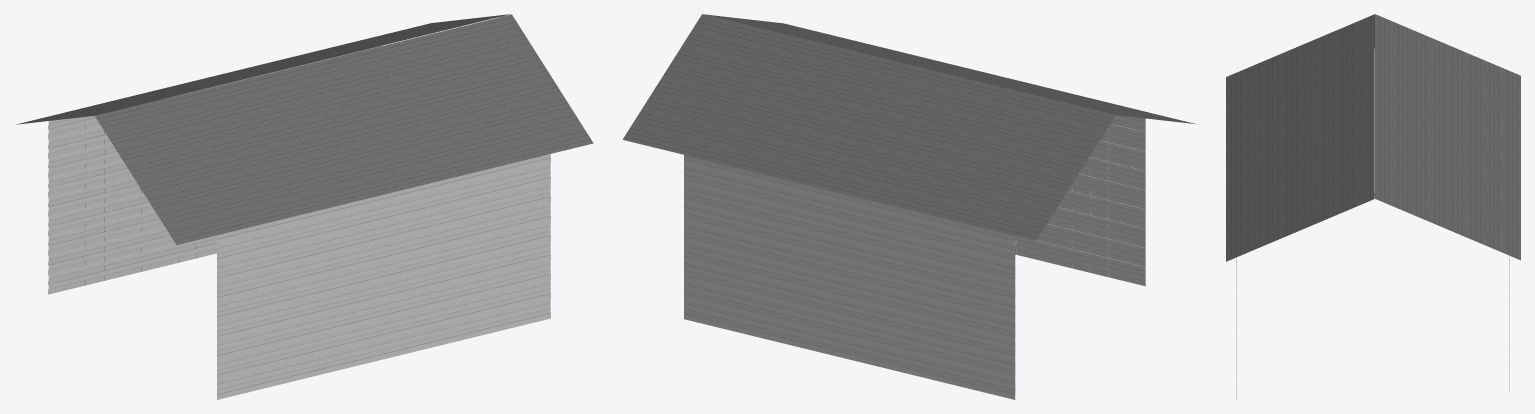
Rendered from rural_church.fbx.
3 views of the same model, side by side, from view 1: azimuth 30°, elevation 25°; view 2: azimuth 150°, elevation 25°; view 3: azimuth 270°, elevation 25° (orthographic). The views are drawn at different scales.
Visible parts, largest first — view 1: Roof.008, LongWall; view 2: Roof.008, LongWall; view 3: Roof.008.
Boxes of the visible parts, x1,y1,x2,y2 form: Roof.008: (16, 14, 593, 294); LongWall: (217, 154, 550, 399); Roof.008: (622, 14, 1196, 399); LongWall: (1015, 115, 1145, 286); Roof.008: (1226, 14, 1520, 391).
Size of the model in its own units: 4500 by 2471 by 3033.
